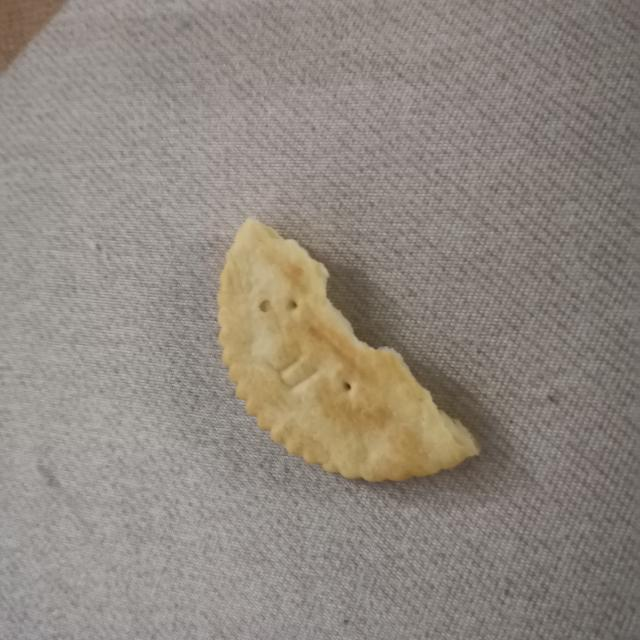Broken: (216, 217, 480, 483)
